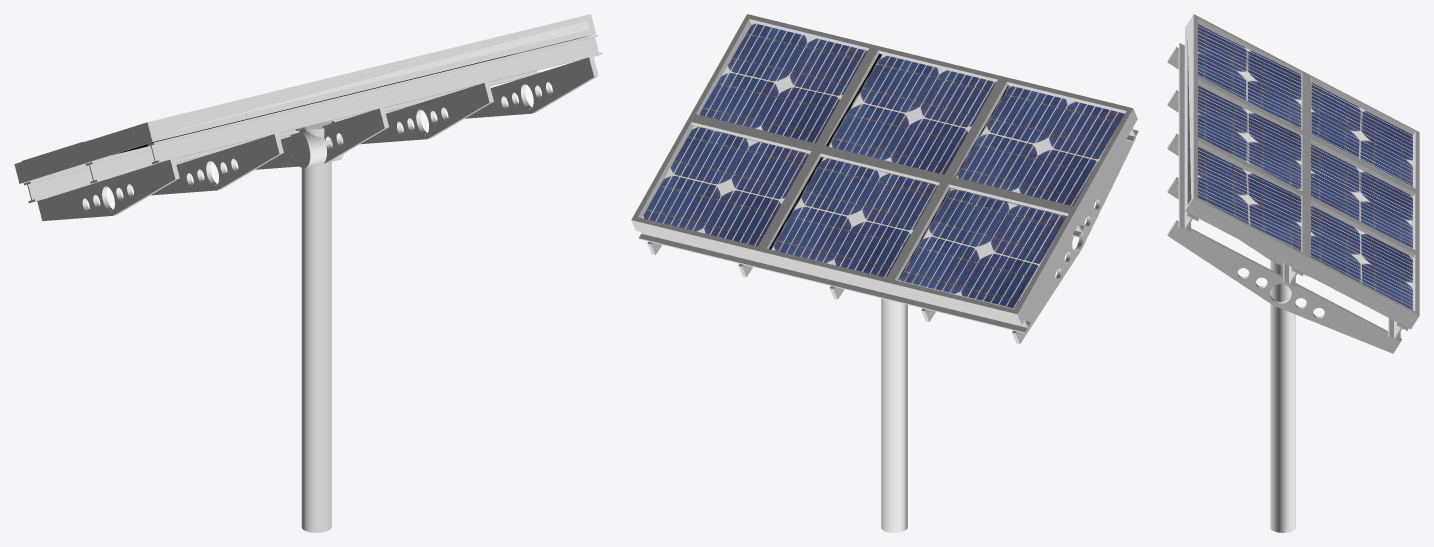
3 views of the same model, side by side, from view 1: azimuth 30°, elevation 25°; view 2: azimuth 150°, elevation 25°; view 3: azimuth 270°, elevation 25° (orthographic). The views are drawn at different scales.
Parts seen in each view (by area): view 1: model3:Box001_Metal_0, model3:Cylinder001_Metal_0; view 2: pCube1, model3:Box001_Metal_0, model3:Cylinder001_Metal_0; view 3: pCube1, model3:Box001_Metal_0, model3:Cylinder001_Metal_0.
Part boxes in pixels (box(x1,y1,x2,y2)): model3:Box001_Metal_0: box(14, 14, 602, 220); model3:Cylinder001_Metal_0: box(301, 121, 331, 532); pCube1: box(642, 23, 1124, 308); model3:Box001_Metal_0: box(631, 14, 1138, 343); model3:Cylinder001_Metal_0: box(881, 298, 907, 532); pCube1: box(1198, 24, 1412, 309); model3:Box001_Metal_0: box(1167, 14, 1419, 353); model3:Cylinder001_Metal_0: box(1270, 260, 1295, 532).
Size of the model in its own units: 0.0143 by 0.0152 by 0.00826.
2 materials, 1 textured.
